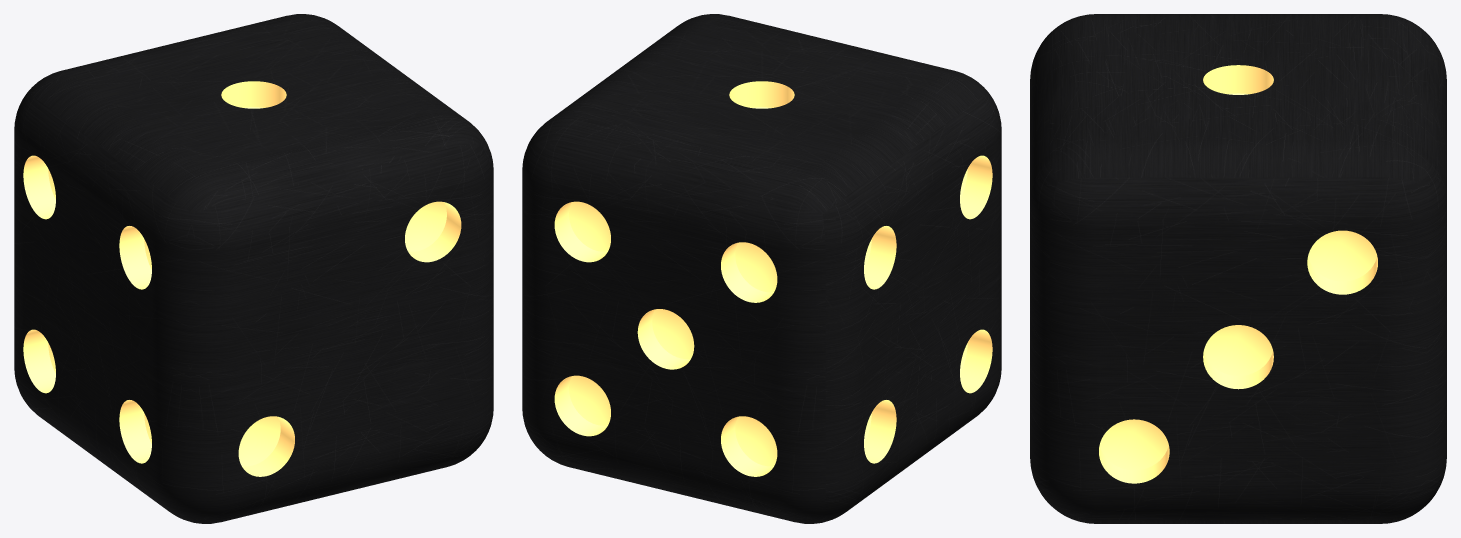
Rendered from MP_D6_BlackGold_Rounded.glb.
3 views of the same model, side by side, from view 1: azimuth 30°, elevation 25°; view 2: azimuth 150°, elevation 25°; view 3: azimuth 270°, elevation 25° (orthographic). The views are drawn at different scales.
Parts seen in each view (by area): view 1: D6_BlackGold_Rounded; view 2: D6_BlackGold_Rounded; view 3: D6_BlackGold_Rounded.
Boxes of the visible parts, left/top/right/bottom form: D6_BlackGold_Rounded: left=14, top=14, right=493, bottom=523; D6_BlackGold_Rounded: left=522, top=14, right=1001, bottom=523; D6_BlackGold_Rounded: left=1030, top=14, right=1446, bottom=523.
Size of the model in its own units: 1 by 1 by 1.
Materials: 2 (1 with a texture image).
